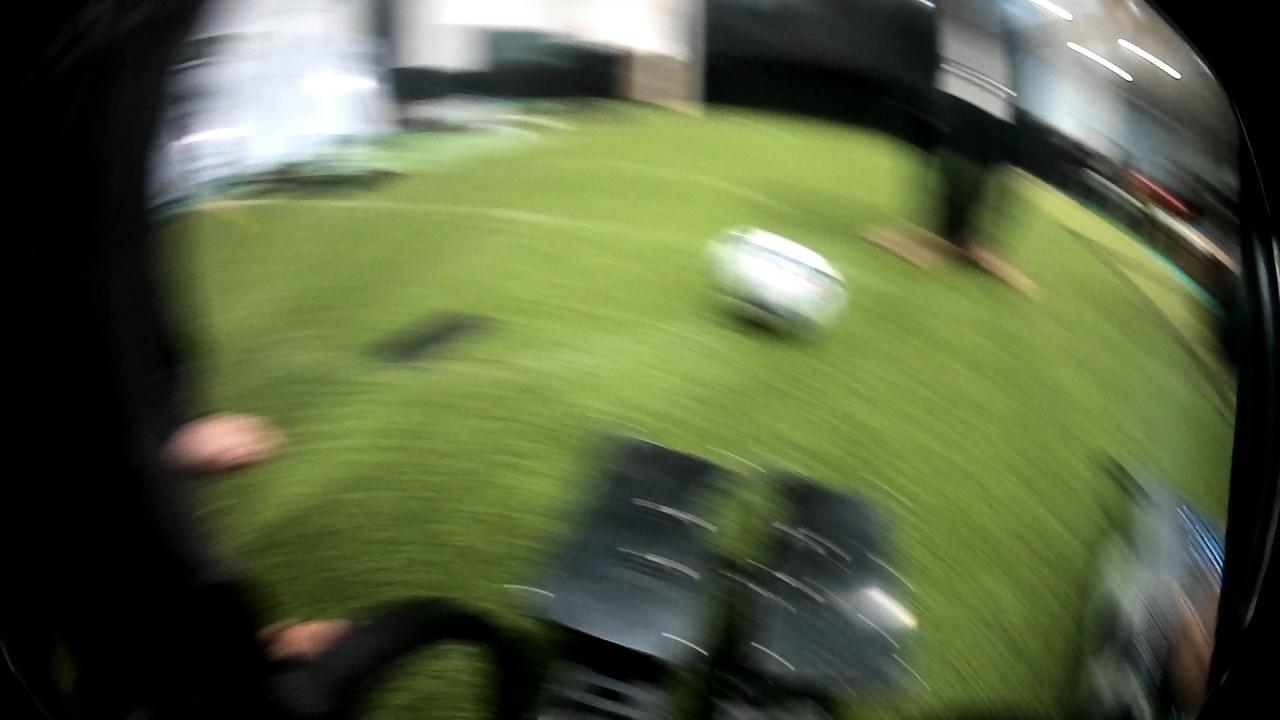ball: (706, 216, 862, 347)
